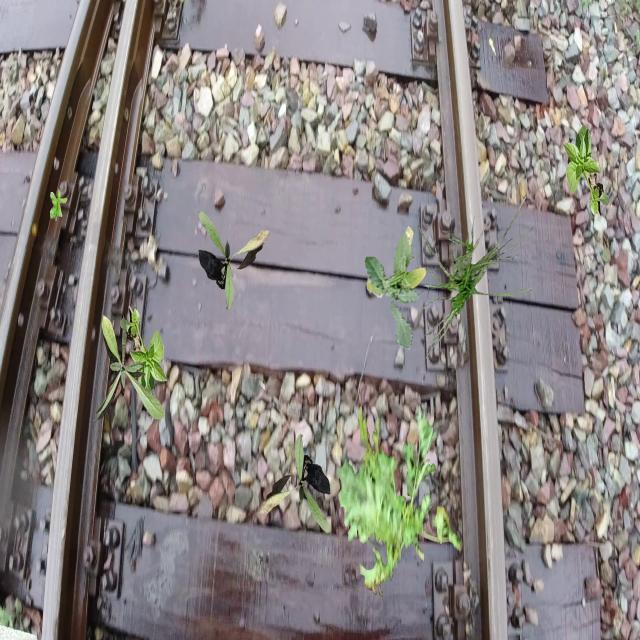Plant: (336, 402, 461, 598), (415, 195, 534, 358), (364, 226, 426, 350), (93, 314, 164, 422), (259, 434, 331, 534), (198, 211, 270, 310), (120, 305, 168, 400), (562, 124, 610, 219), (50, 189, 68, 221)
